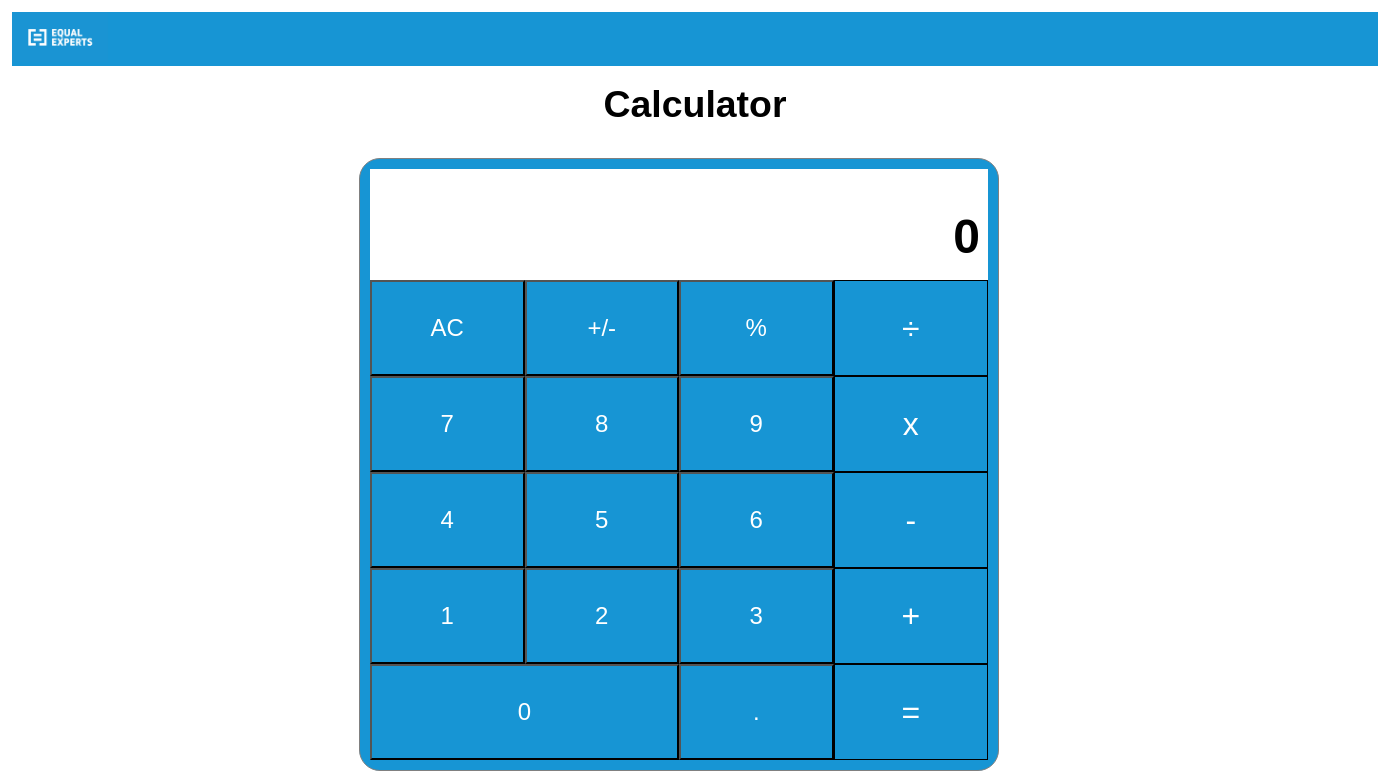
Test: Component › Should contain the number 8
Click the button titled "eight" at x=602, y=424, box [524,376,679,472]
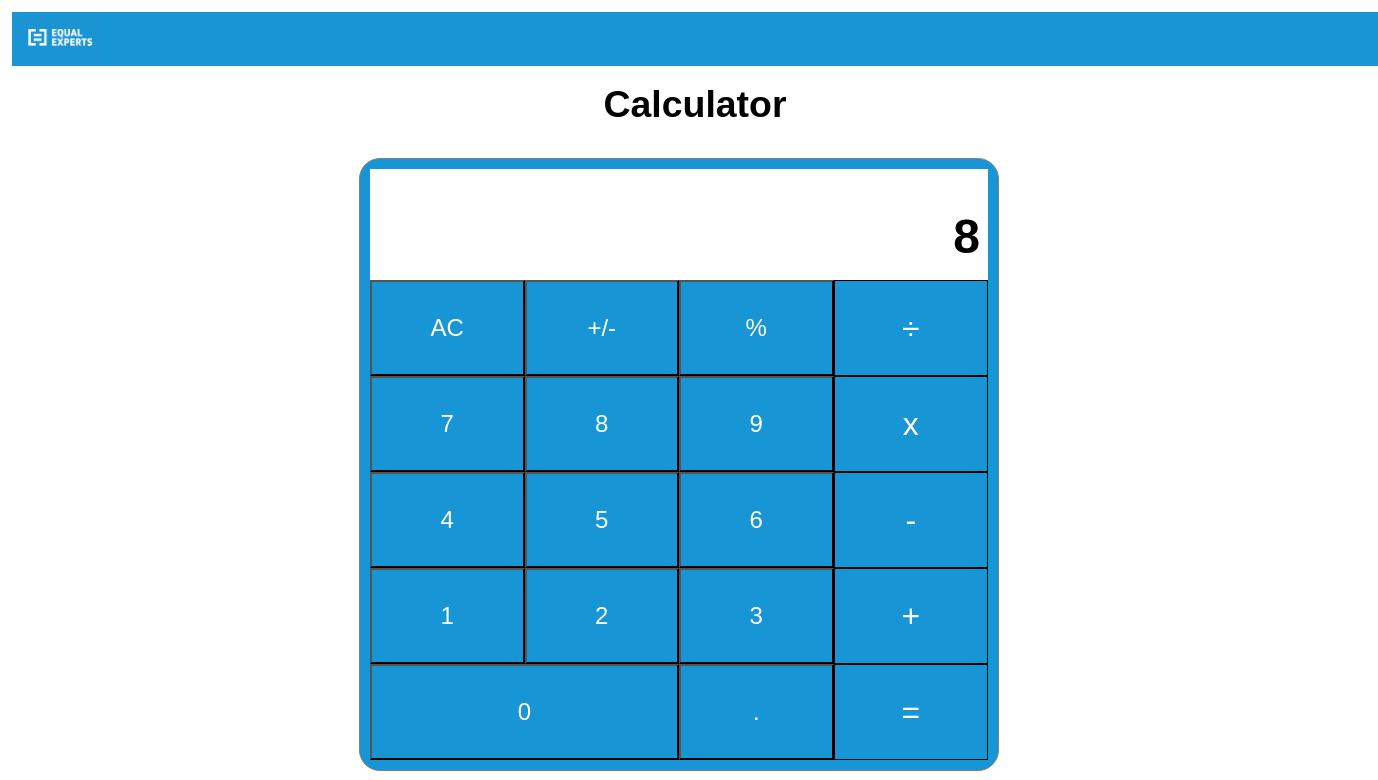
Expected: the text titled "display" reads "8", [953,210,980,263]
